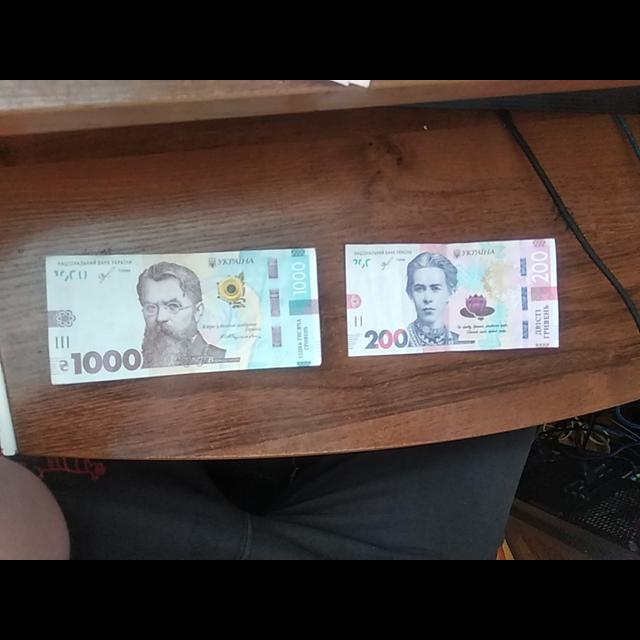1000uah: (48, 249, 323, 384)
200uah: (345, 239, 560, 352)
